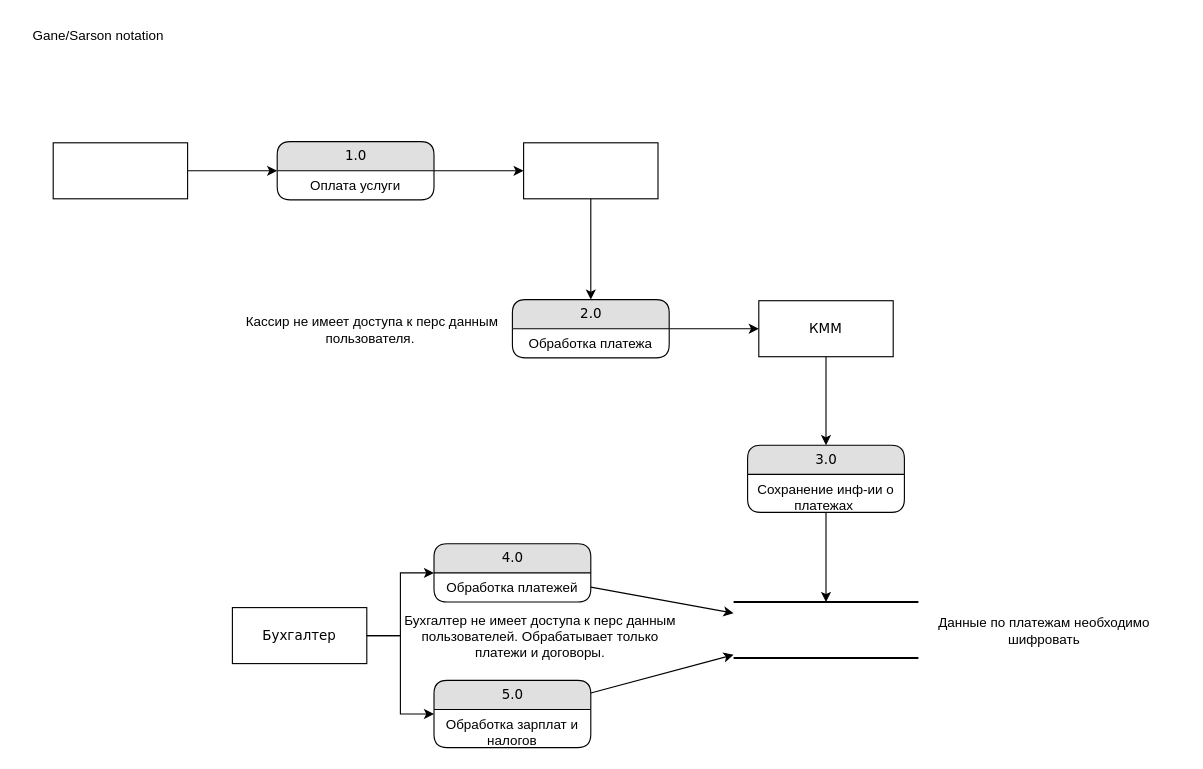
The diagram is 1203 pixels wide and 769 high, and some of its shapes have lost their labels. The shapes that lost their labels are listed below. From the top down, each one's centre as x and y in pixels, then its label:
At [120,170]: "Пациент".
At [590,170]: "Кассир".
At [825,629]: "1С бухгалтерия".
